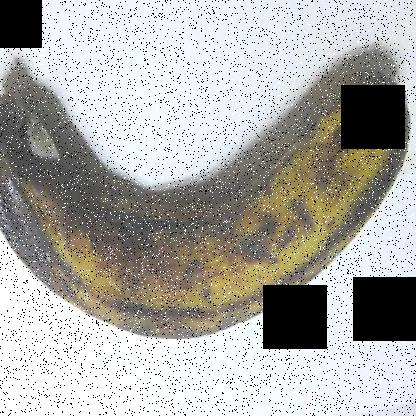overripe: (0, 31, 415, 353)
rotten: (0, 75, 86, 295)
